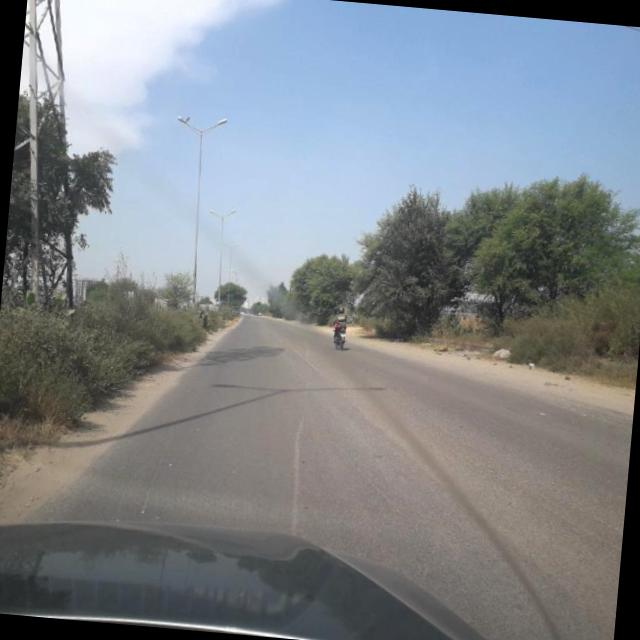crack: (292, 356, 456, 486), (282, 408, 310, 524), (145, 401, 173, 517)
